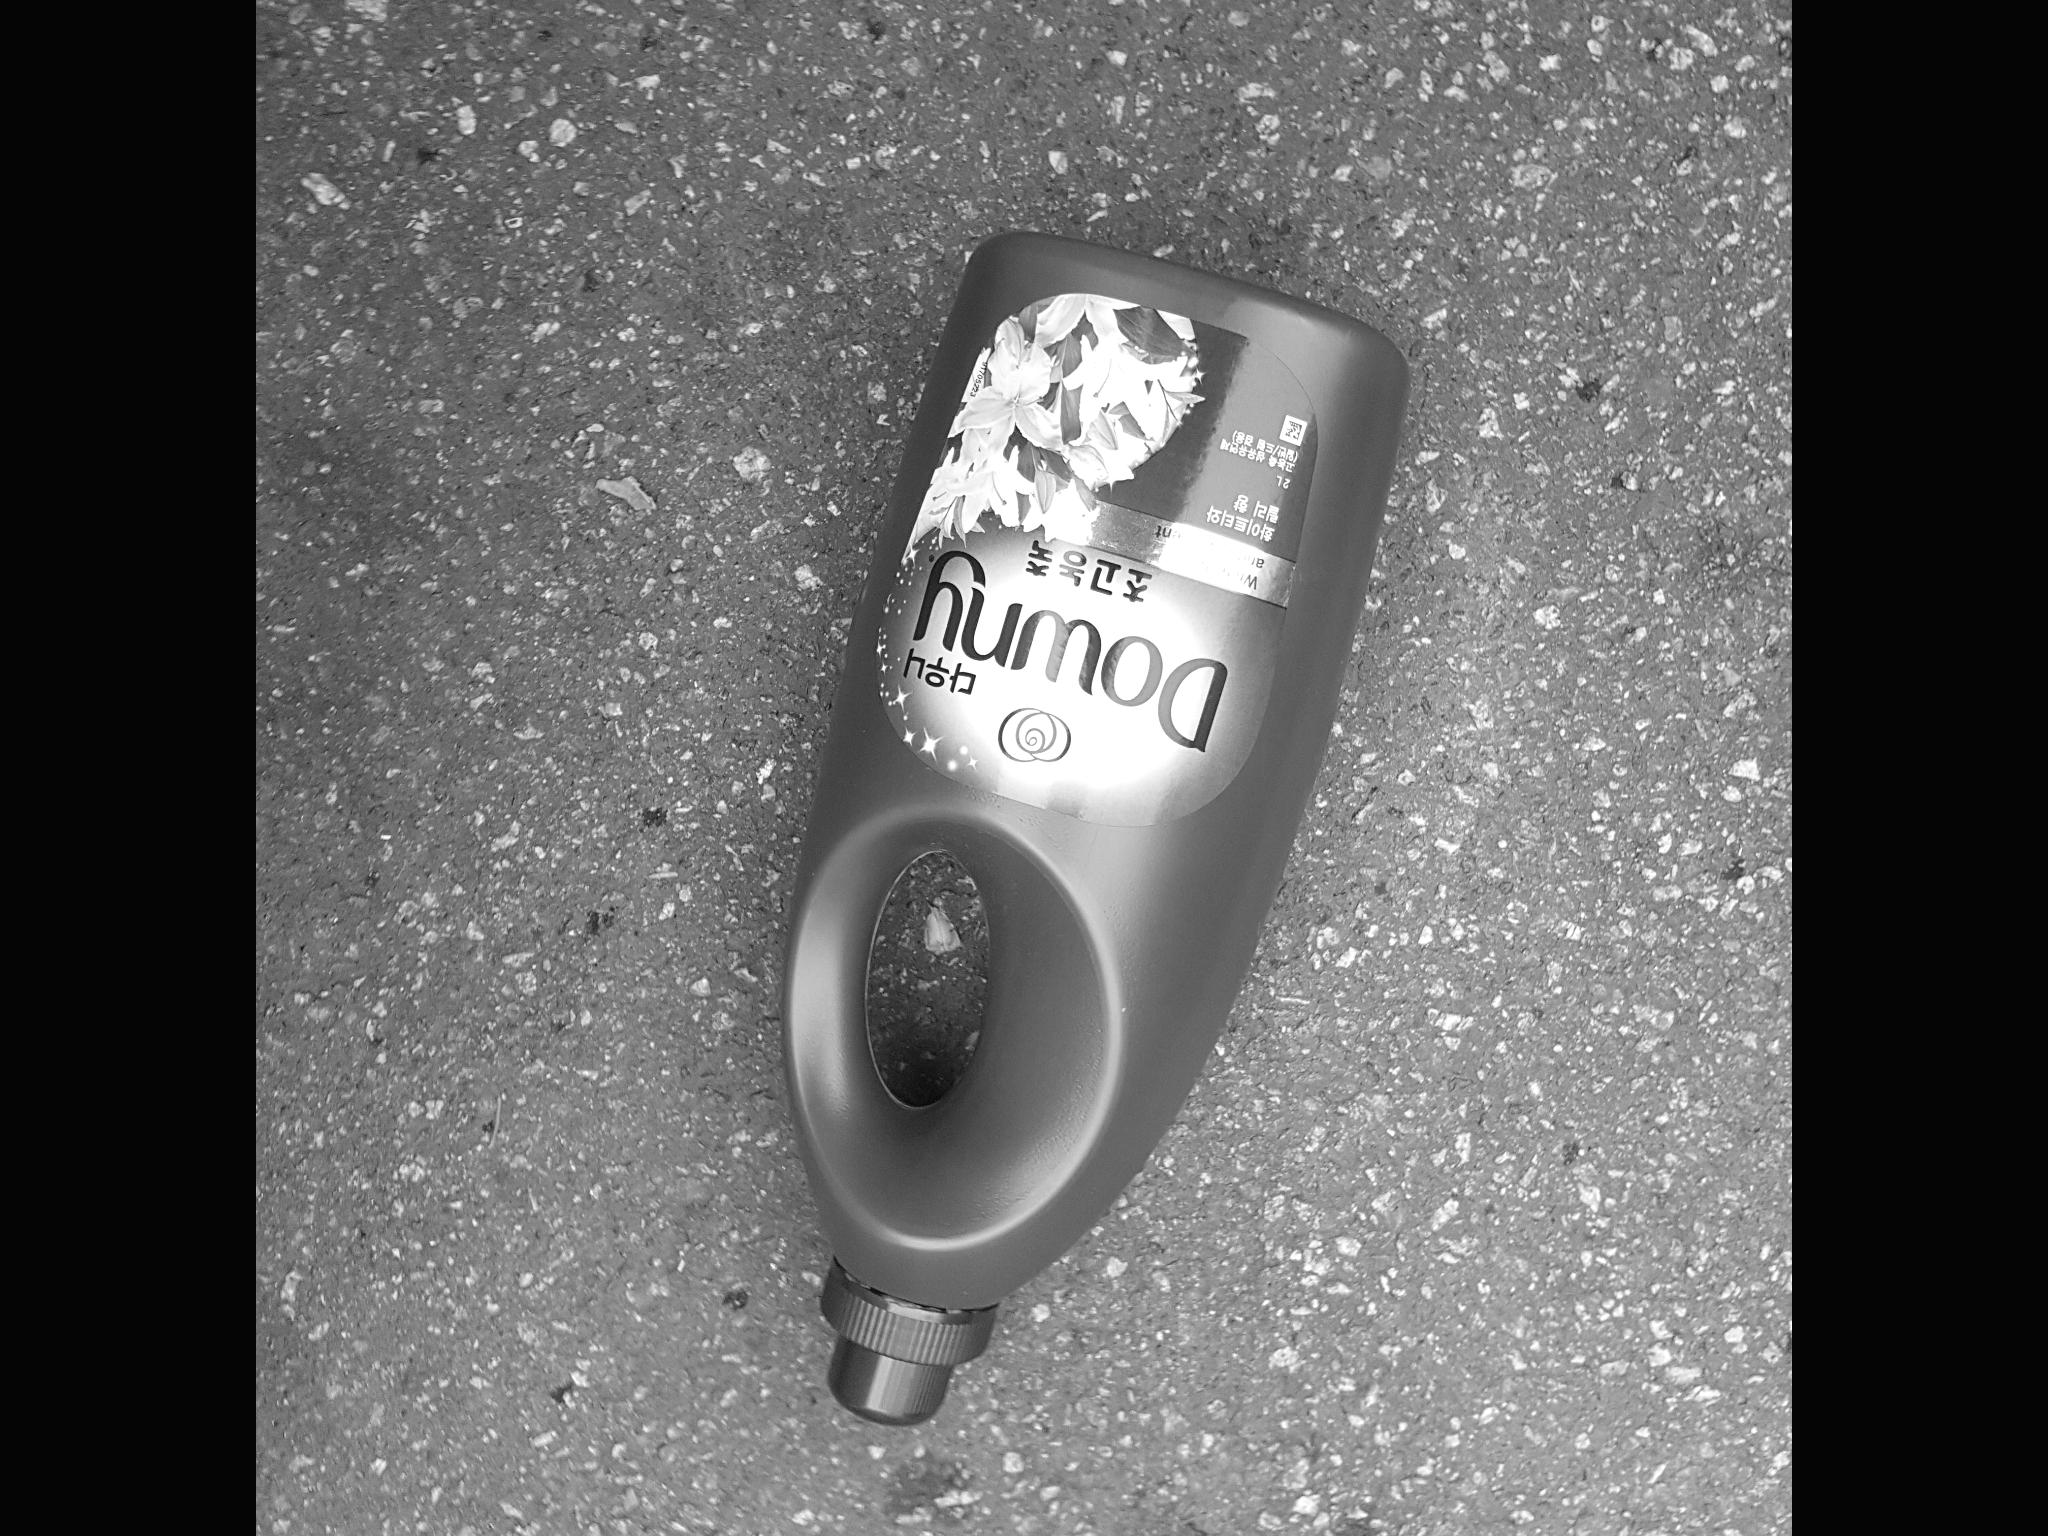bottle: (492, 237, 1432, 1433)
